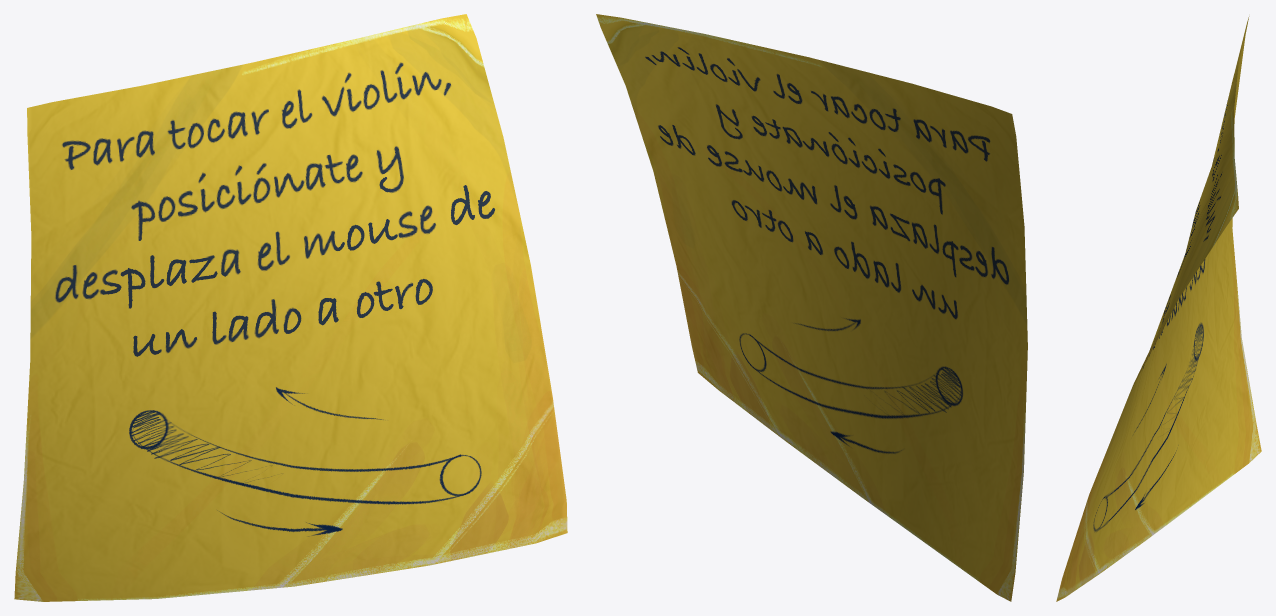
The model's file is postit6.fbx.
3 views of the same model, side by side, from view 1: azimuth 30°, elevation 25°; view 2: azimuth 150°, elevation 25°; view 3: azimuth 270°, elevation 25° (orthographic). The views are drawn at different scales.
Parts seen in each view (by area): view 1: Plane; view 2: Plane; view 3: Plane.
Part boxes in pixels (x1,y1,x2,y2): Plane: [14, 14, 567, 601]; Plane: [596, 14, 1027, 601]; Plane: [1056, 16, 1261, 601].
Size of the model in its own units: 74.78 by 80.22 by 33.68.
1 material, 1 textured.
